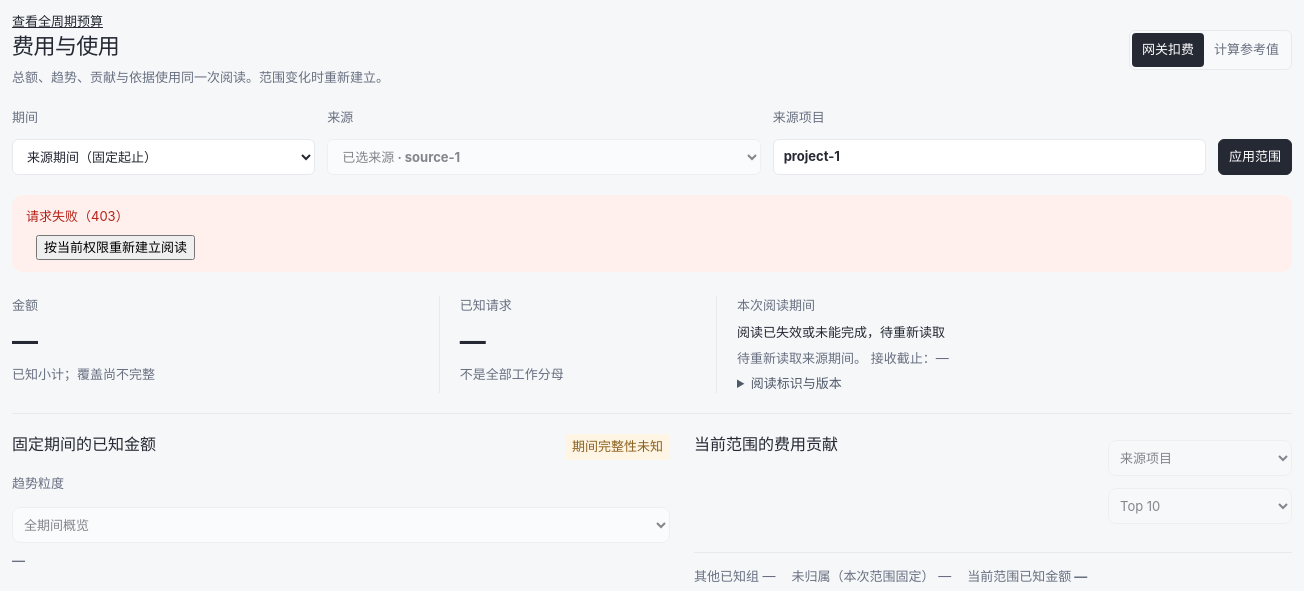
Test: does not silently replace a rejected reading (403), allows explicit new reading
Expected: the text "Contribution one" is not shown
Expected: the text "阅读已失效或未能完成，待重新读取" is shown, [737, 324, 945, 340]
Click the button "按当前权限重新建立阅读". click: x=116, y=247
box: [36, 235, 195, 260]
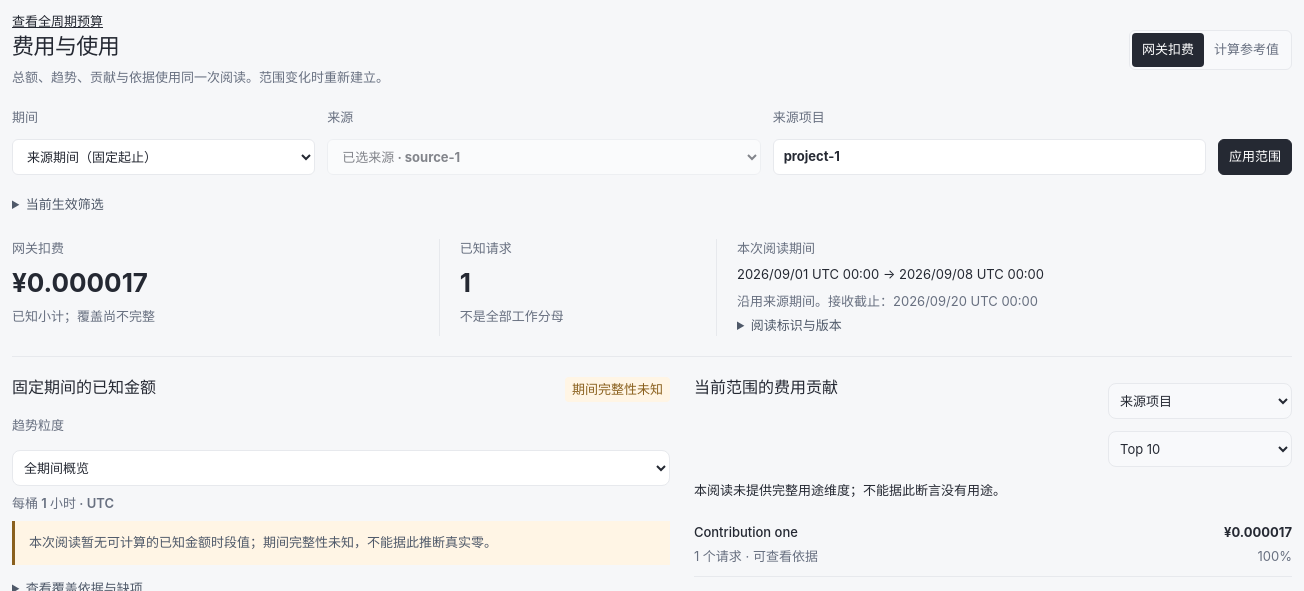
Now the button "Contribution one 1 个请求 · 可查看依据 ¥0.000017 100%" is shown, box [694, 513, 1292, 577]
